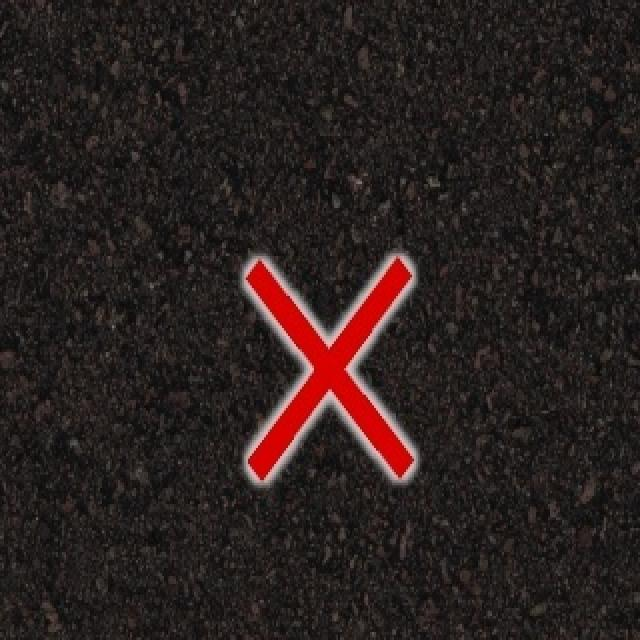x_marker: (245, 257, 413, 479)
